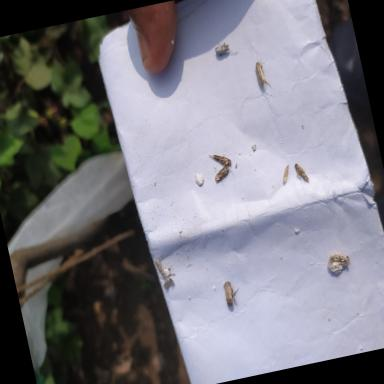pbw: (222, 278, 240, 308), (253, 60, 271, 90), (209, 150, 233, 170), (293, 160, 310, 185), (212, 164, 235, 182)
